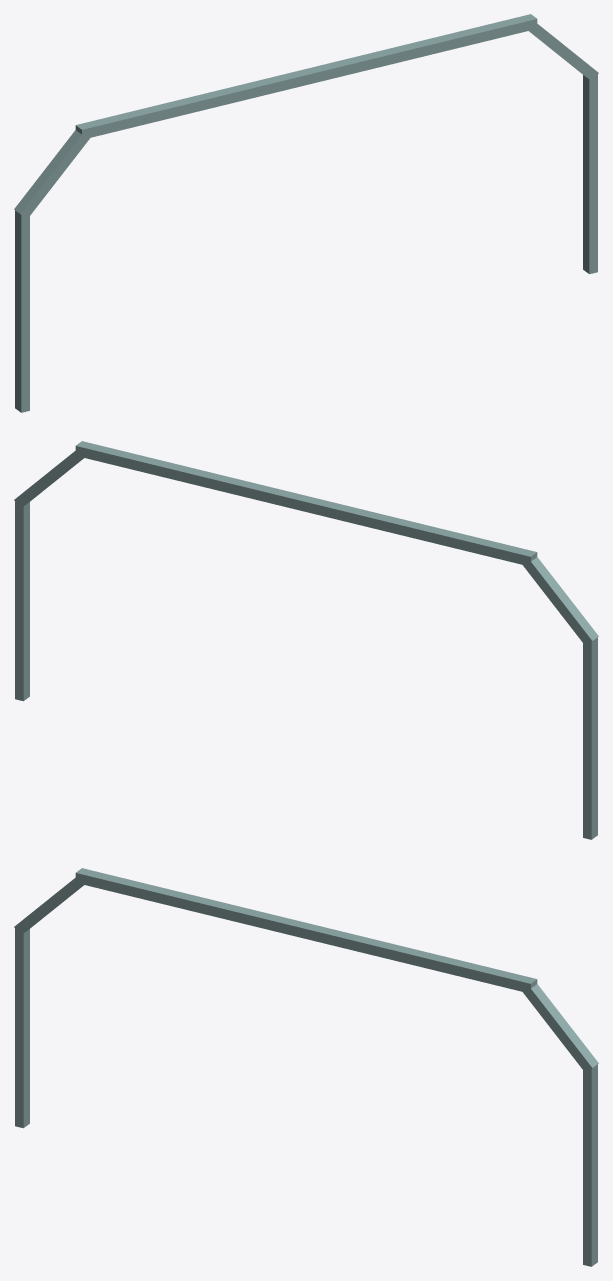
File: rib.glb
3 renders of one model, top to bottom at view 1: azimuth 30°, elevation 25°; view 2: azimuth 150°, elevation 25°; view 3: azimuth 330°, elevation 25°, orthographic.
Parts seen in each view (by area): view 1: Brushed titanium; view 2: Brushed titanium; view 3: Brushed titanium.
Part boxes in pixels (<box>): Brushed titanium: <box>14,14,598,412</box>; Brushed titanium: <box>14,441,598,839</box>; Brushed titanium: <box>14,868,598,1266</box>.
Bounding box in the file's own units: 13.34 × 5.91 × 0.26.
